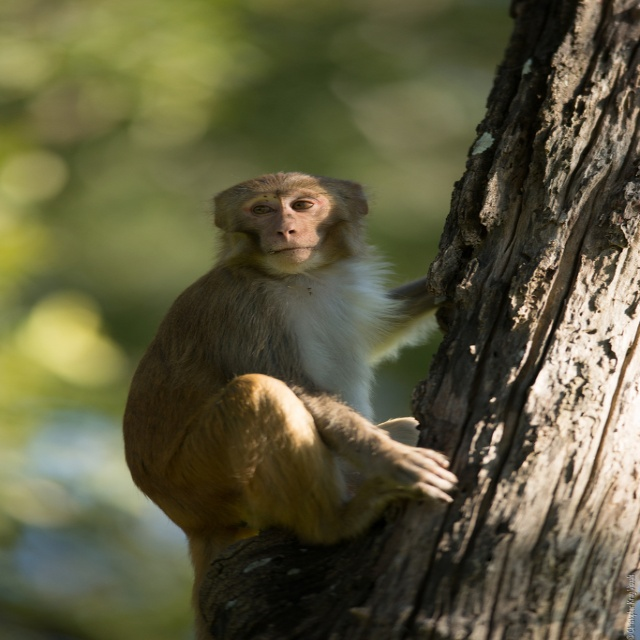Monkey: (116, 164, 445, 604)
